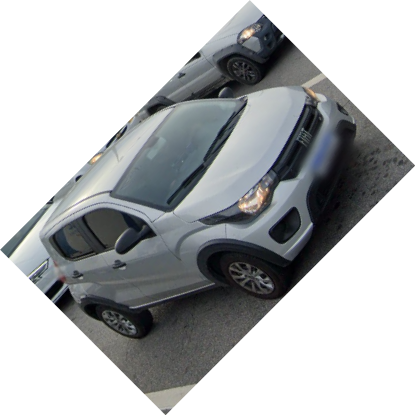car: (37, 84, 357, 337)
